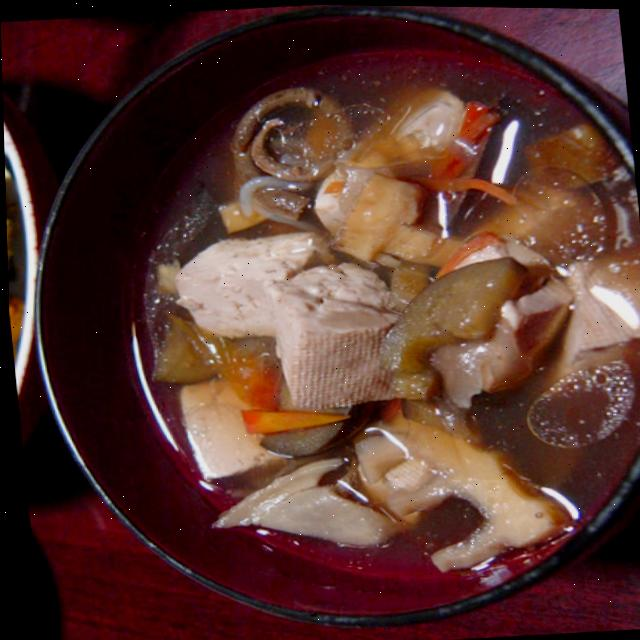蔬菜料理: (22, 0, 640, 640)
